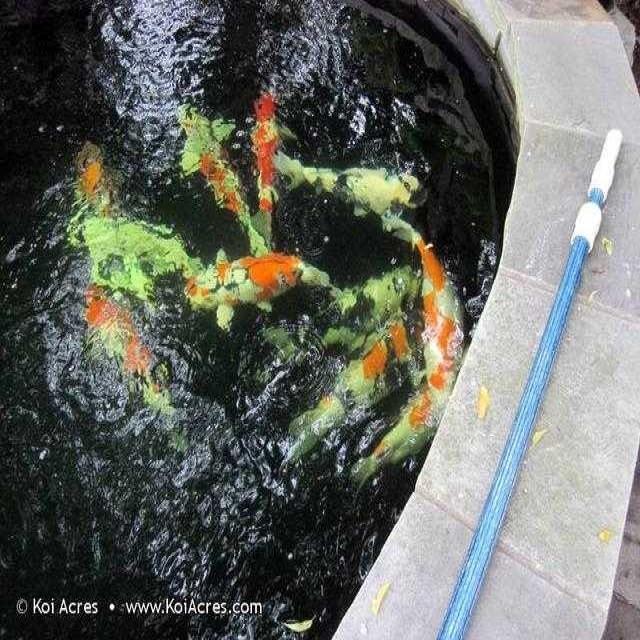Ponds: (4, 1, 640, 640)
